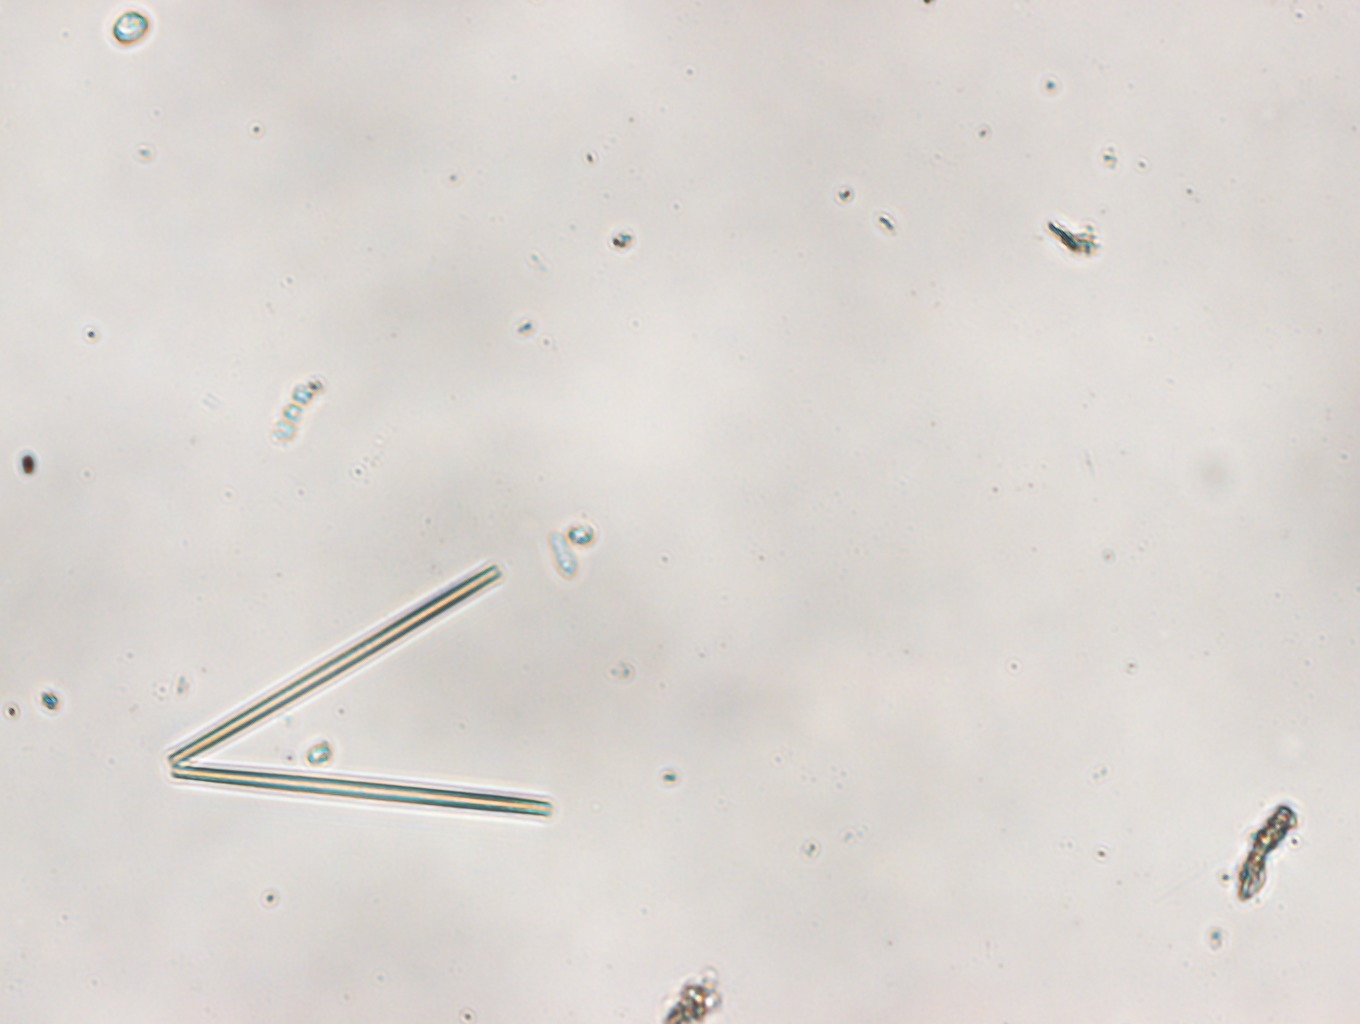thalassionema frauenfeldii: (169, 564, 552, 817)
